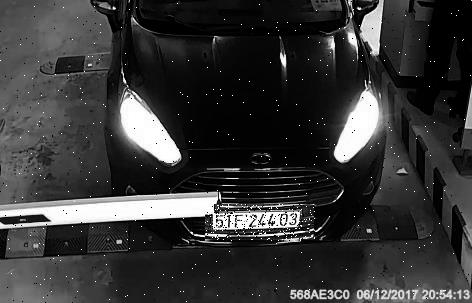License-plate: (207, 206, 317, 243)
